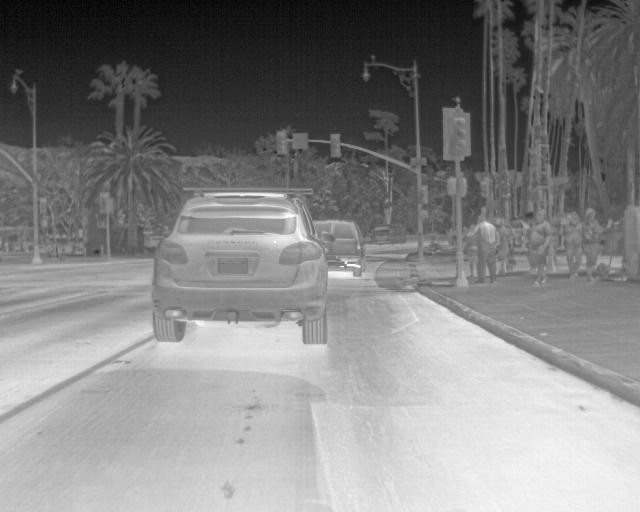bicycle: (153, 187, 333, 345), (310, 219, 365, 275)
empty: (523, 210, 552, 285), (474, 214, 498, 285), (561, 212, 584, 280), (586, 205, 603, 280), (463, 223, 479, 281), (496, 217, 510, 276)
